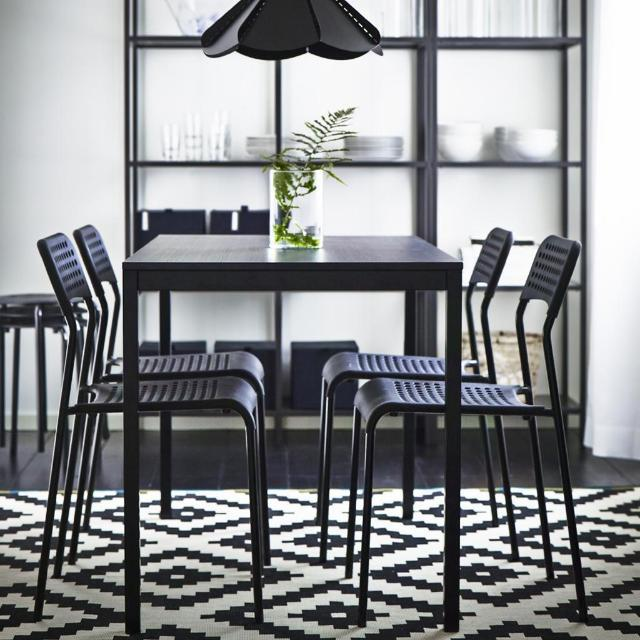chair: (461, 235, 586, 618), (34, 225, 124, 624), (137, 369, 269, 628), (350, 379, 444, 626)
light: (201, 0, 381, 60)
plant: (260, 108, 357, 262)
rug: (0, 486, 640, 640)
shelf: (125, 0, 586, 255), (284, 296, 401, 350)
stool: (0, 293, 65, 474)
table: (124, 235, 462, 632)
